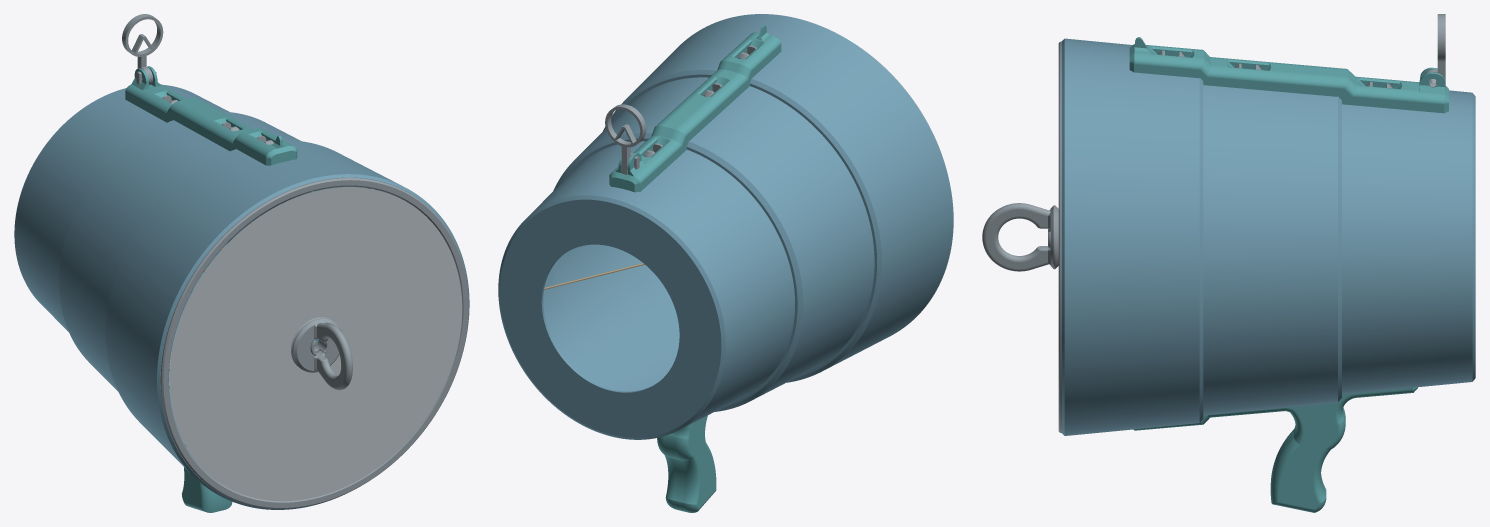
The model's file is core-rest.glb.
3 renders of one model, left to right at view 1: azimuth 30°, elevation 25°; view 2: azimuth 150°, elevation 25°; view 3: azimuth 270°, elevation 25°, orthographic. The views are drawn at different scales.
Parts seen in each view (by area): view 1: film-study, stock-7, stock-8, stock-6, stock-10, stock-3, stock-5, stock-4, stock-2; view 2: stock-6, stock-8, stock-7, stock-3, stock-4, stock-2; view 3: stock-7, stock-8, stock-6, stock-3, stock-4, stock-5, stock-10, stock-2.
Boxes of the visible parts, left/top/right/bottom form: film-study: left=169, top=187, right=462, bottom=501; stock-7: left=106, top=140, right=469, bottom=509; stock-8: left=59, top=111, right=374, bottom=446; stock-6: left=14, top=84, right=313, bottom=388; stock-10: left=160, top=177, right=468, bottom=508; stock-3: left=125, top=66, right=297, bottom=165; stock-5: left=292, top=318, right=352, bottom=390; stock-4: left=182, top=467, right=232, bottom=512; stock-2: left=122, top=14, right=163, bottom=84; stock-6: left=498, top=141, right=794, bottom=439; stock-8: left=552, top=77, right=874, bottom=411; stock-7: left=603, top=14, right=953, bottom=382; stock-3: left=609, top=25, right=781, bottom=192; stock-4: left=657, top=415, right=716, bottom=512; stock-2: left=605, top=104, right=646, bottom=174; stock-7: left=1061, top=38, right=1203, bottom=435; stock-8: left=1203, top=85, right=1341, bottom=415; stock-6: left=1342, top=90, right=1475, bottom=394; stock-3: left=1129, top=37, right=1448, bottom=113; stock-4: left=1133, top=387, right=1417, bottom=512; stock-5: left=982, top=203, right=1058, bottom=271; stock-10: left=1058, top=41, right=1061, bottom=432; stock-2: left=1424, top=14, right=1445, bottom=90.
Size of the model in its own units: 0.2496 by 0.341 by 0.3098.
